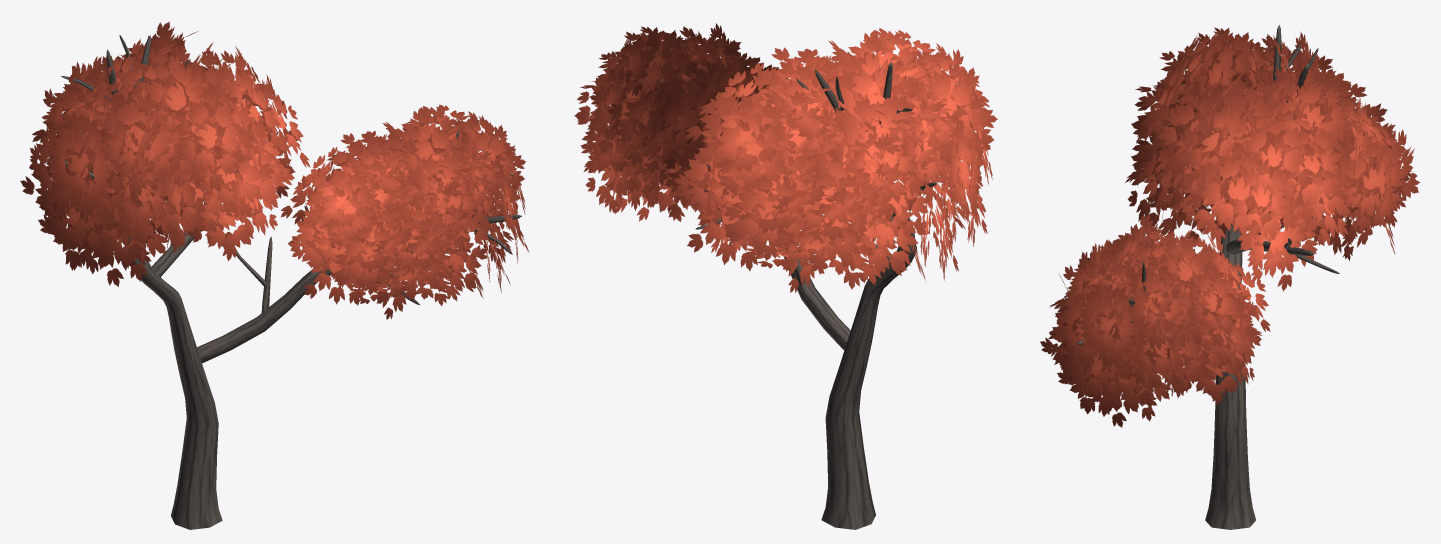
The model's file is MapleTree_1.gltf.
The picture shows the model from 3 angles, left to right: view 1: azimuth 30°, elevation 25°; view 2: azimuth 150°, elevation 25°; view 3: azimuth 270°, elevation 25°; orthographic projection. The views are drawn at different scales.
Parts seen in each view (by area): view 1: MapleTree_1; view 2: MapleTree_1; view 3: MapleTree_1.
Part boxes in pixels (left/top/right/bottom): MapleTree_1: left=20, top=21, right=528, bottom=529; MapleTree_1: left=574, top=23, right=997, bottom=529; MapleTree_1: left=1040, top=25, right=1420, bottom=529.
Bounding box in the file's own units: 6.23 × 6.64 × 4.9.
Materials: 2 (2 with a texture image).
